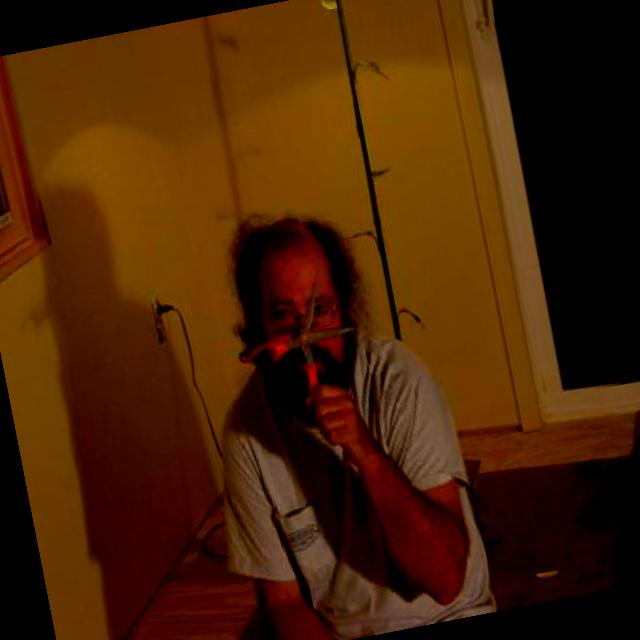Person: (175, 184, 496, 640)
